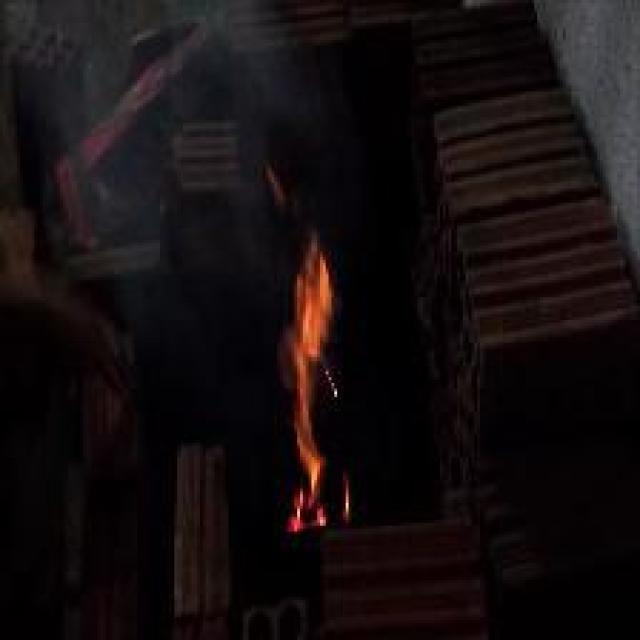smoke: (274, 220, 360, 537)
